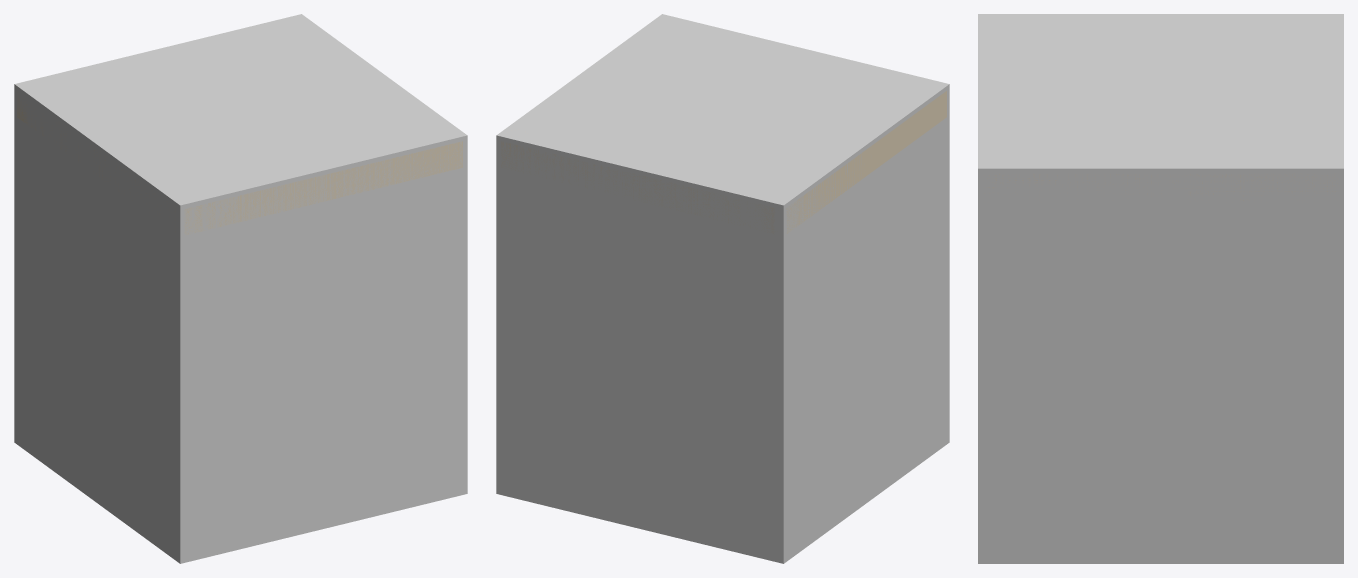
File: side-table_basic.glb
3 renders of one model, left to right at view 1: azimuth 30°, elevation 25°; view 2: azimuth 150°, elevation 25°; view 3: azimuth 270°, elevation 25°, orthographic. The views are drawn at different scales.
Parts seen in each view (by area): view 1: COL_side-table, MESH_Top; view 2: COL_side-table, MESH_Top; view 3: COL_side-table.
Part boxes in pixels (bbox=[...]): COL_side-table: bbox=[14, 14, 467, 563]; MESH_Top: bbox=[17, 92, 462, 234]; COL_side-table: bbox=[496, 14, 949, 563]; MESH_Top: bbox=[501, 91, 946, 233]; COL_side-table: bbox=[978, 14, 1343, 563].
Bounding box in the file's own units: 0.52 × 0.62 × 0.52.
